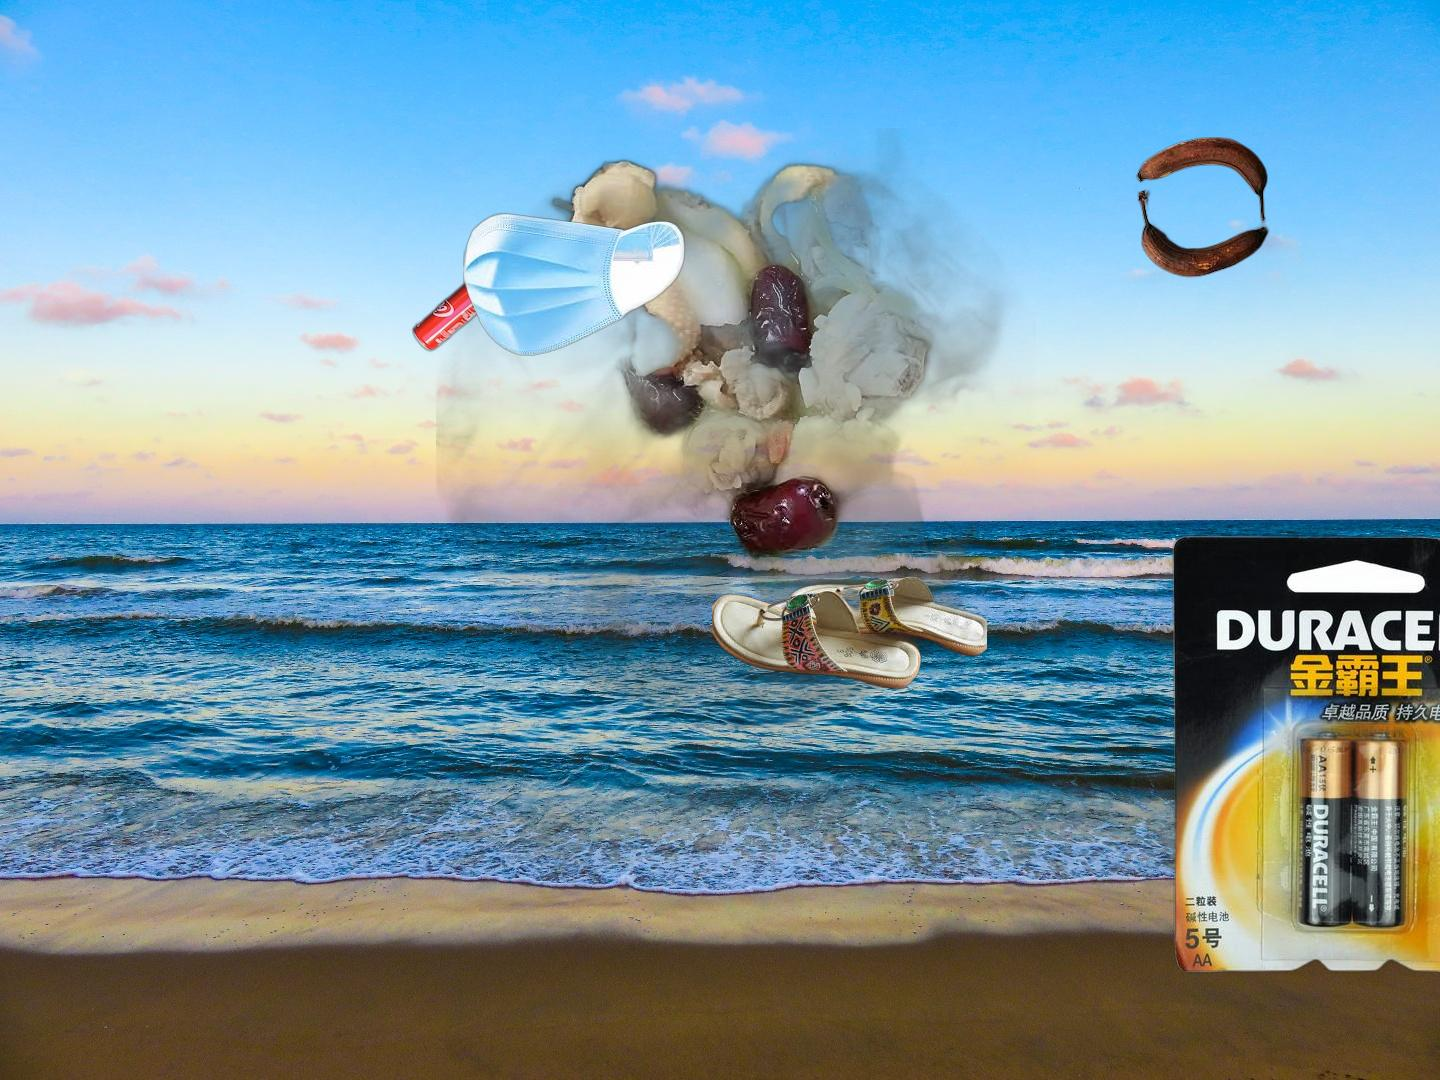battery: (1169, 531, 1440, 979)
biological: (437, 128, 1036, 728), (1133, 134, 1271, 280)
metal-cans: (409, 272, 494, 356)
shoes: (712, 574, 986, 692)
trash: (463, 211, 688, 356)
